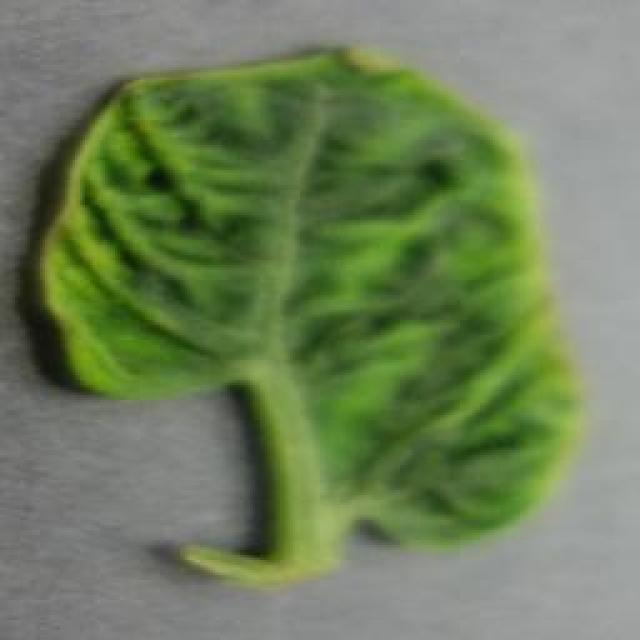Tomato yellow virus leaf: (36, 42, 582, 560)
